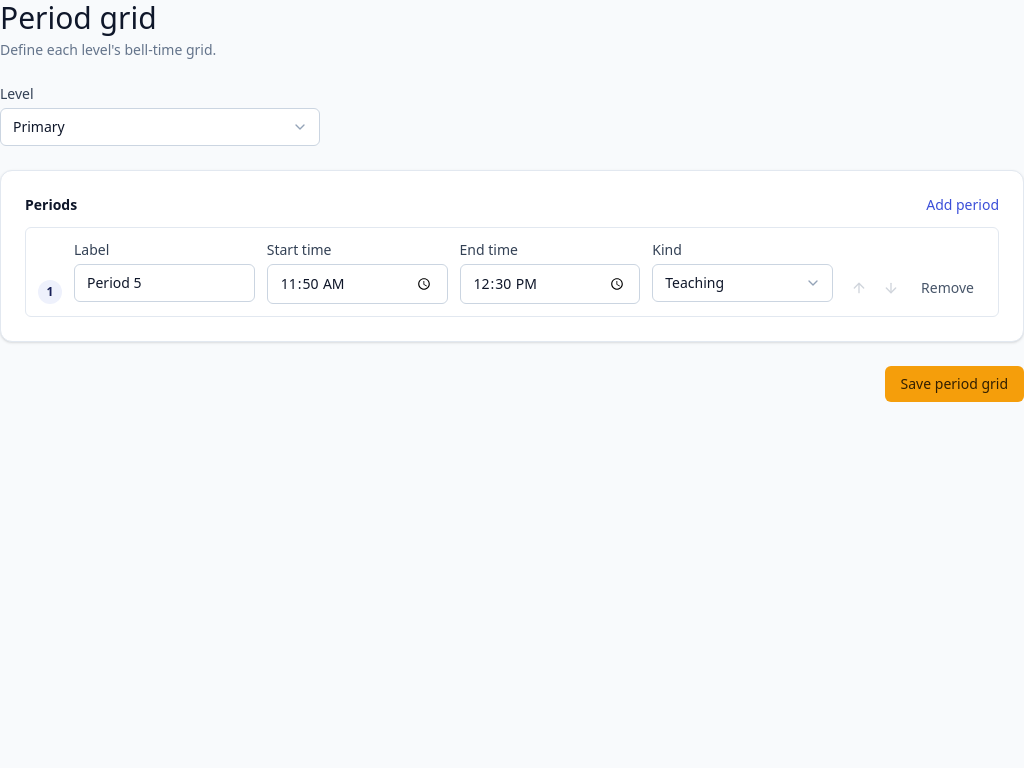
Test: PeriodGridPage › allows a period to start exactly when the previous one ends
Expected: the field showing "Period 5" is shown, [74,264,255,302]
Click the button "Add period".
click(963, 205)  # box [926,195,999,215]
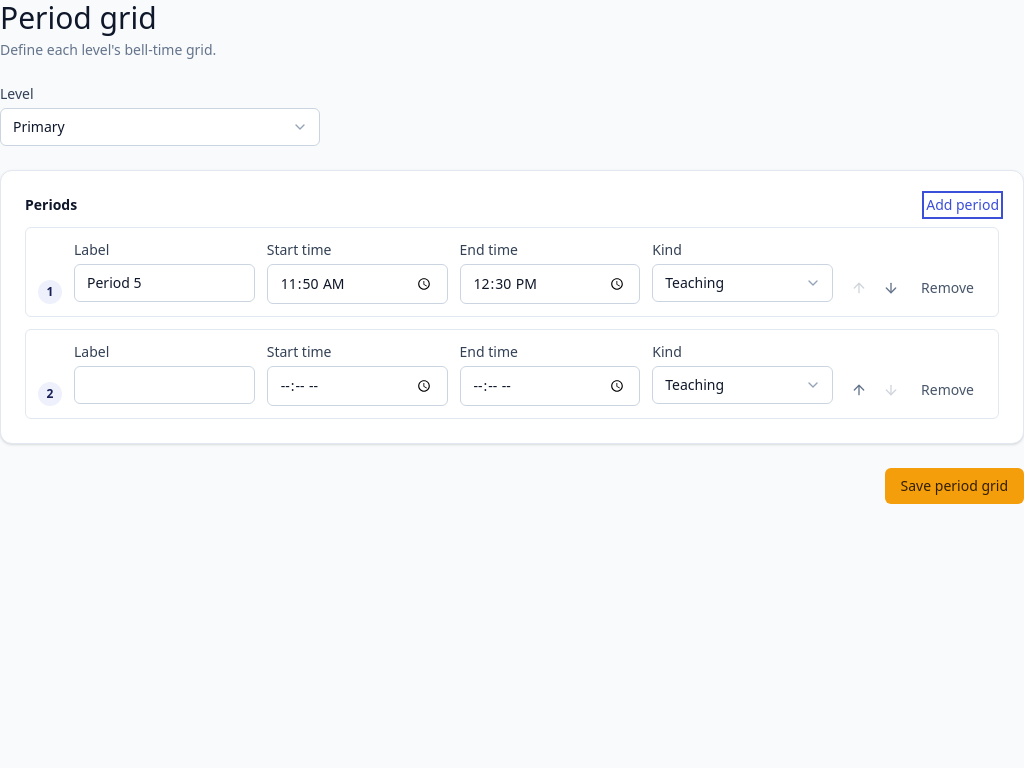
Type "Period 6" into the 2nd field labelled "Label".
click(164, 385); type("Period 6")  # box [74,366,255,404]
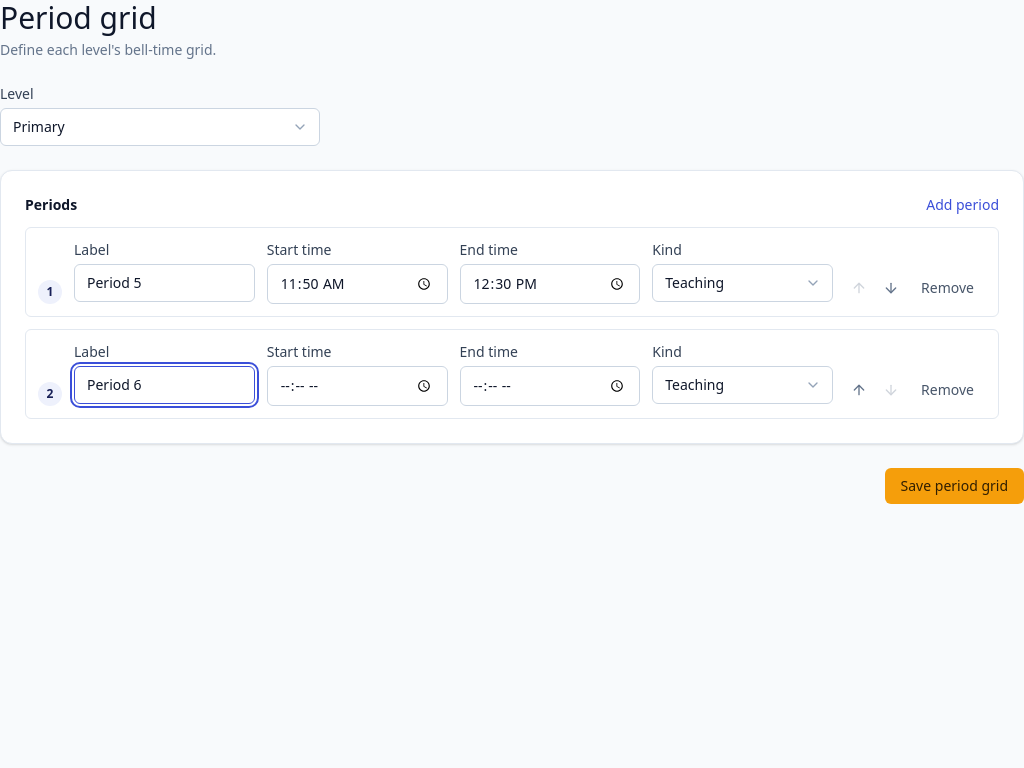
Type "12:30" into the 2nd time field labelled "Start time".
click(357, 386); type("12:30")  # box [267,366,448,406]
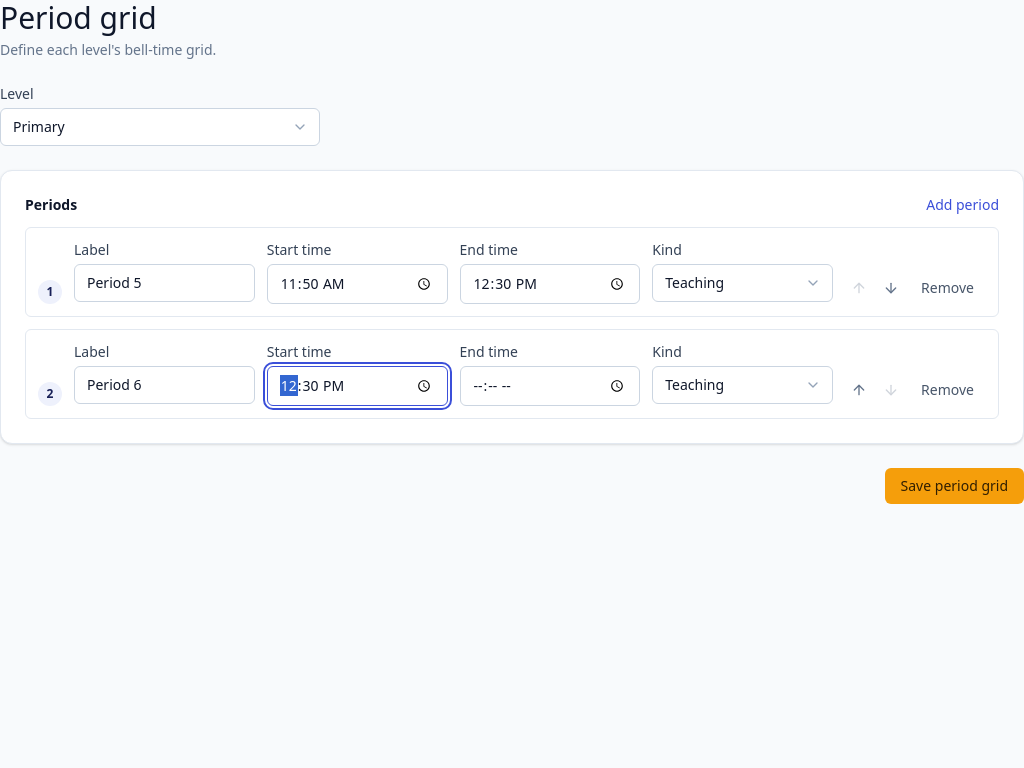
Type "13:30" into the 2nd time field labelled "End time".
click(550, 386); type("13:30")  # box [460,366,640,406]
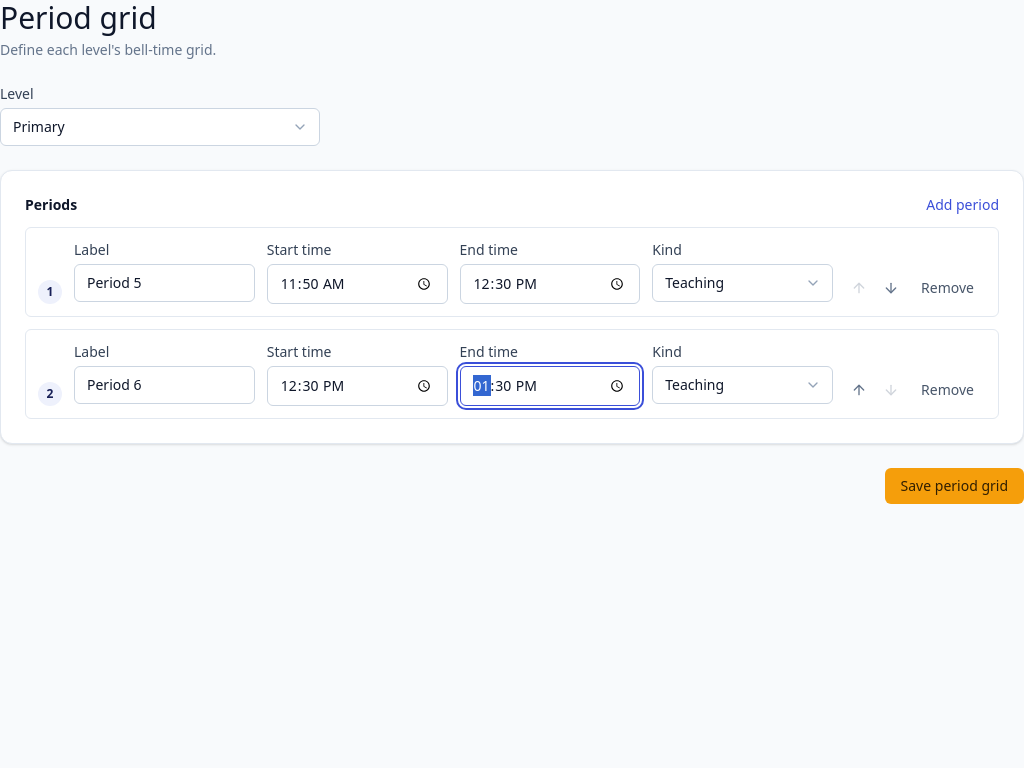
Click the button "Save period grid".
click(954, 486)  # box [885,468,1023,504]
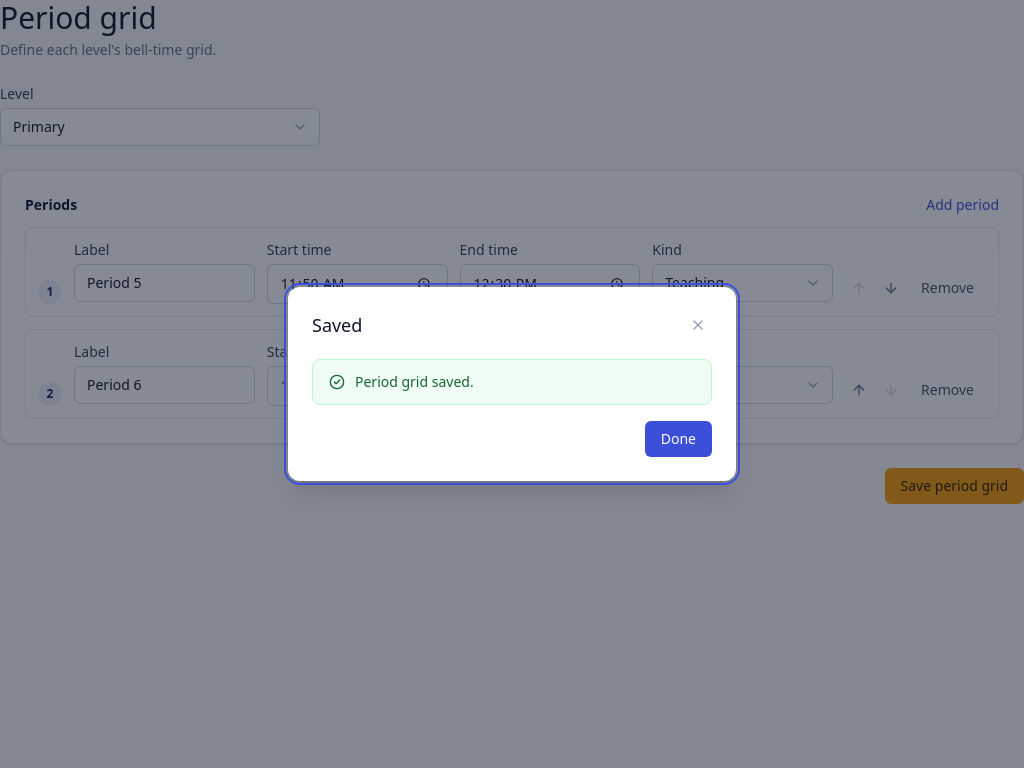
Expected: the text "Period grid saved." is shown, [355,372,474,392]
